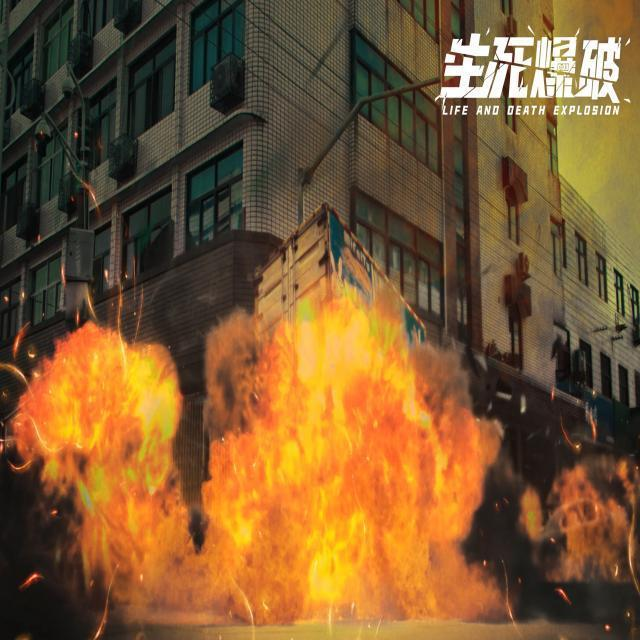fire: (2, 258, 510, 640)
